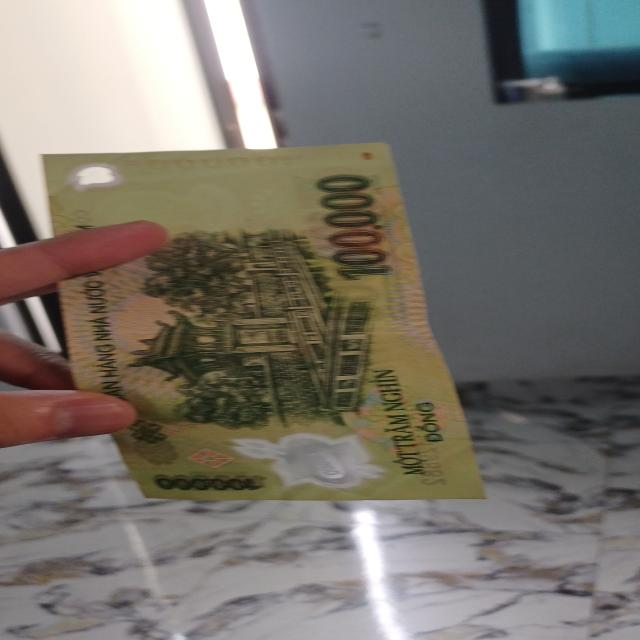100 000 VND: (47, 140, 508, 510)
